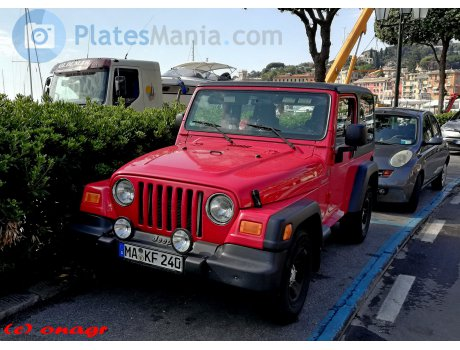License Plates: (120, 246, 182, 265)
